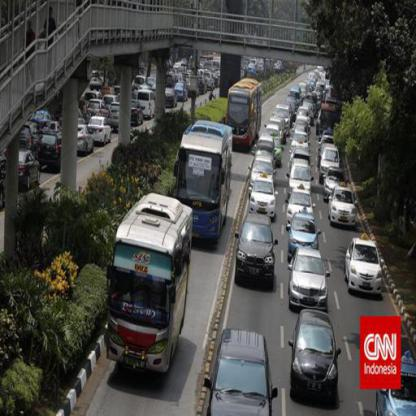bus: (103, 202, 196, 374), (176, 121, 236, 232), (228, 77, 265, 139)
car: (207, 326, 278, 415), (296, 310, 337, 400), (236, 212, 276, 288), (288, 248, 334, 314), (344, 234, 382, 299), (286, 210, 328, 254), (324, 186, 363, 232), (249, 177, 281, 218), (16, 150, 42, 192), (283, 190, 317, 220), (90, 116, 114, 144)
